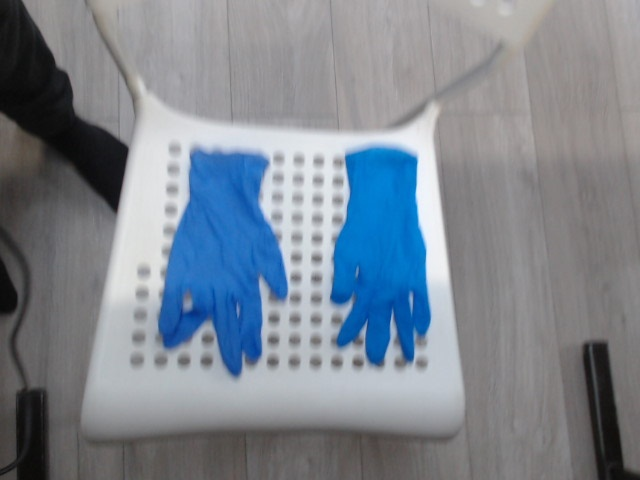medical_glove: (158, 148, 289, 372), (333, 147, 431, 366)
